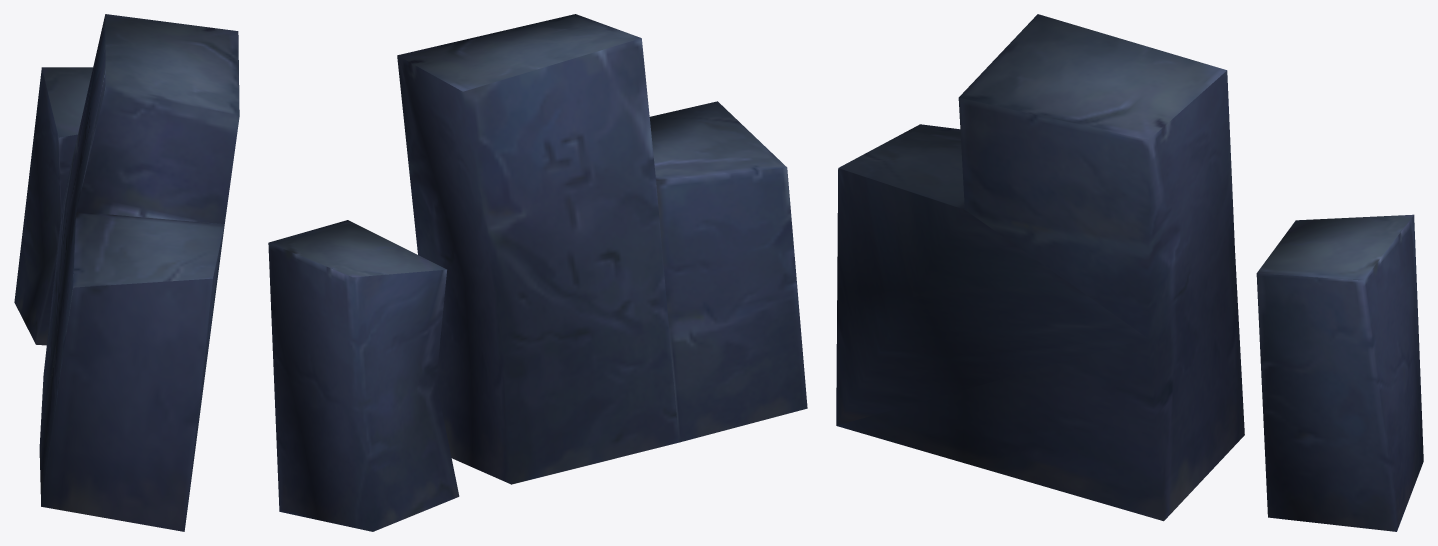
The model's file is Area_01_16.fbx.
The picture shows the model from 3 angles, left to right: view 1: azimuth 30°, elevation 25°; view 2: azimuth 150°, elevation 25°; view 3: azimuth 270°, elevation 25°; orthographic projection. The views are drawn at different scales.
Parts seen in each view (by area): view 1: Area_01_16; view 2: Area_01_16; view 3: Area_01_16.
Boxes of the visible parts, bbox=[...] form: Area_01_16: bbox=[14, 14, 239, 531]; Area_01_16: bbox=[268, 14, 807, 531]; Area_01_16: bbox=[836, 14, 1423, 531].
Bounding box in the file's own units: 662 × 757 × 948.
